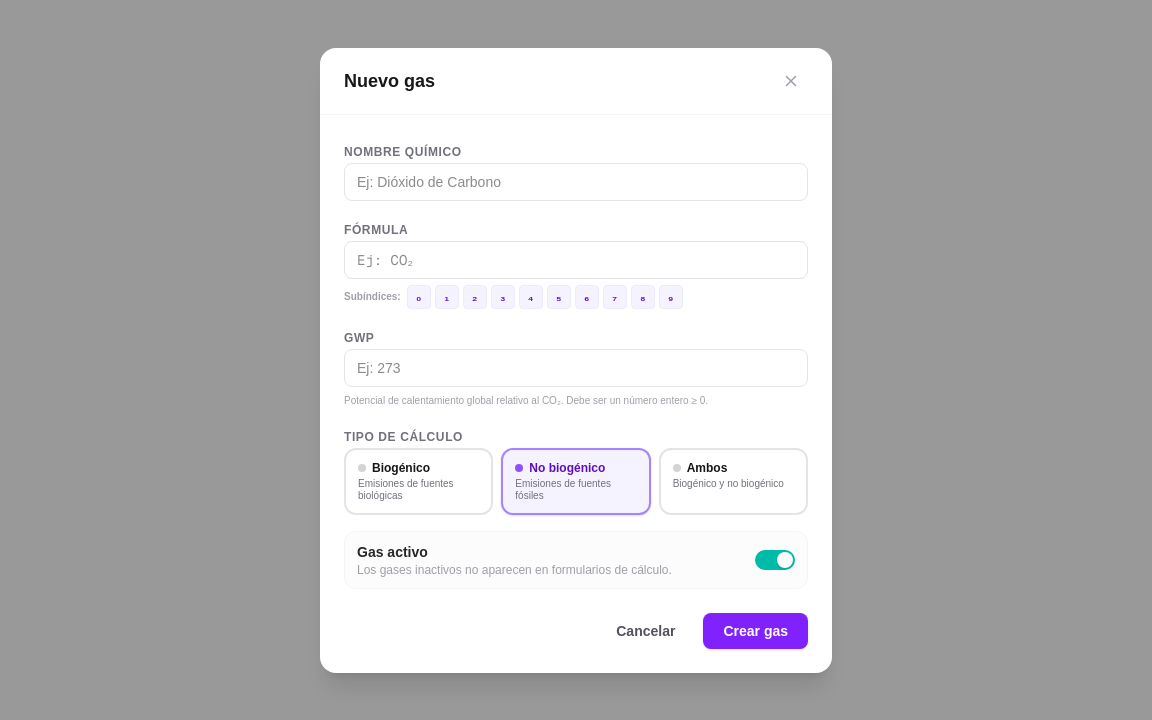
Scenario: GasFormModal › G-16 — Submit con todos los campos vacíos › muestra los tres mensajes de error requeridos
Click the button "Crear gas": (756, 630) [703,612,808,648]
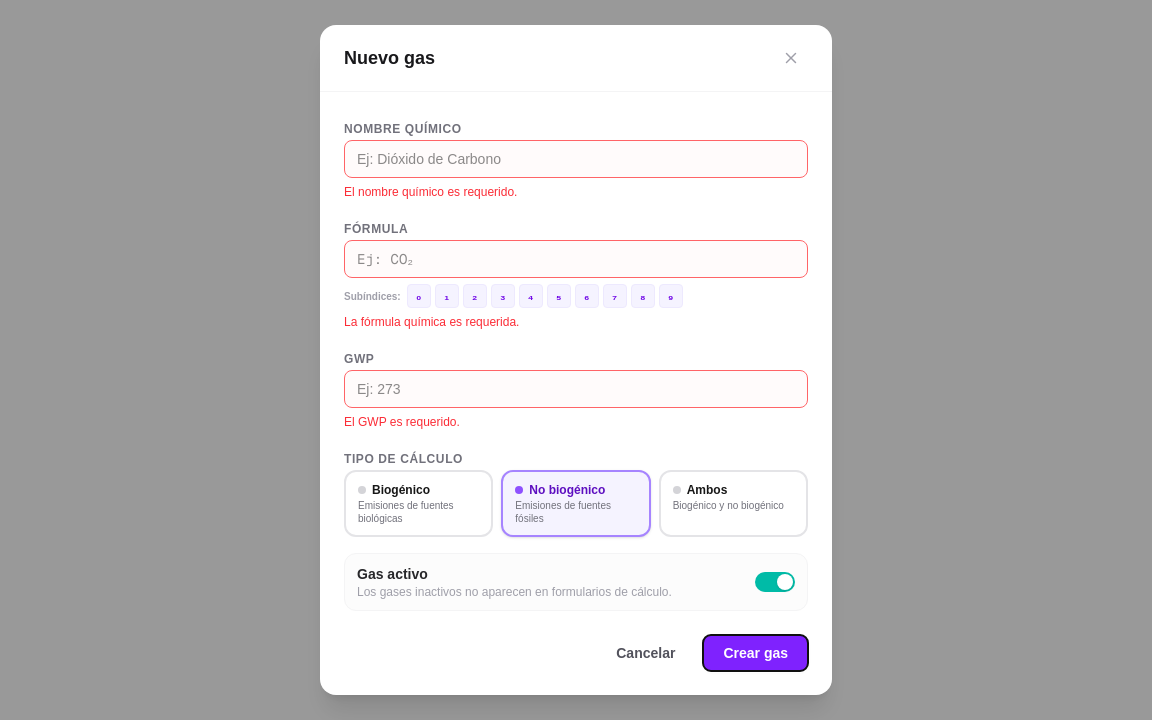
Now the text "El nombre químico es requerido." is shown, box [344,185,517,199]
Now the text "La fórmula química es requerida." is shown, box [344,315,519,329]
Now the text "El GWP es requerido." is shown, box [344,415,460,429]
